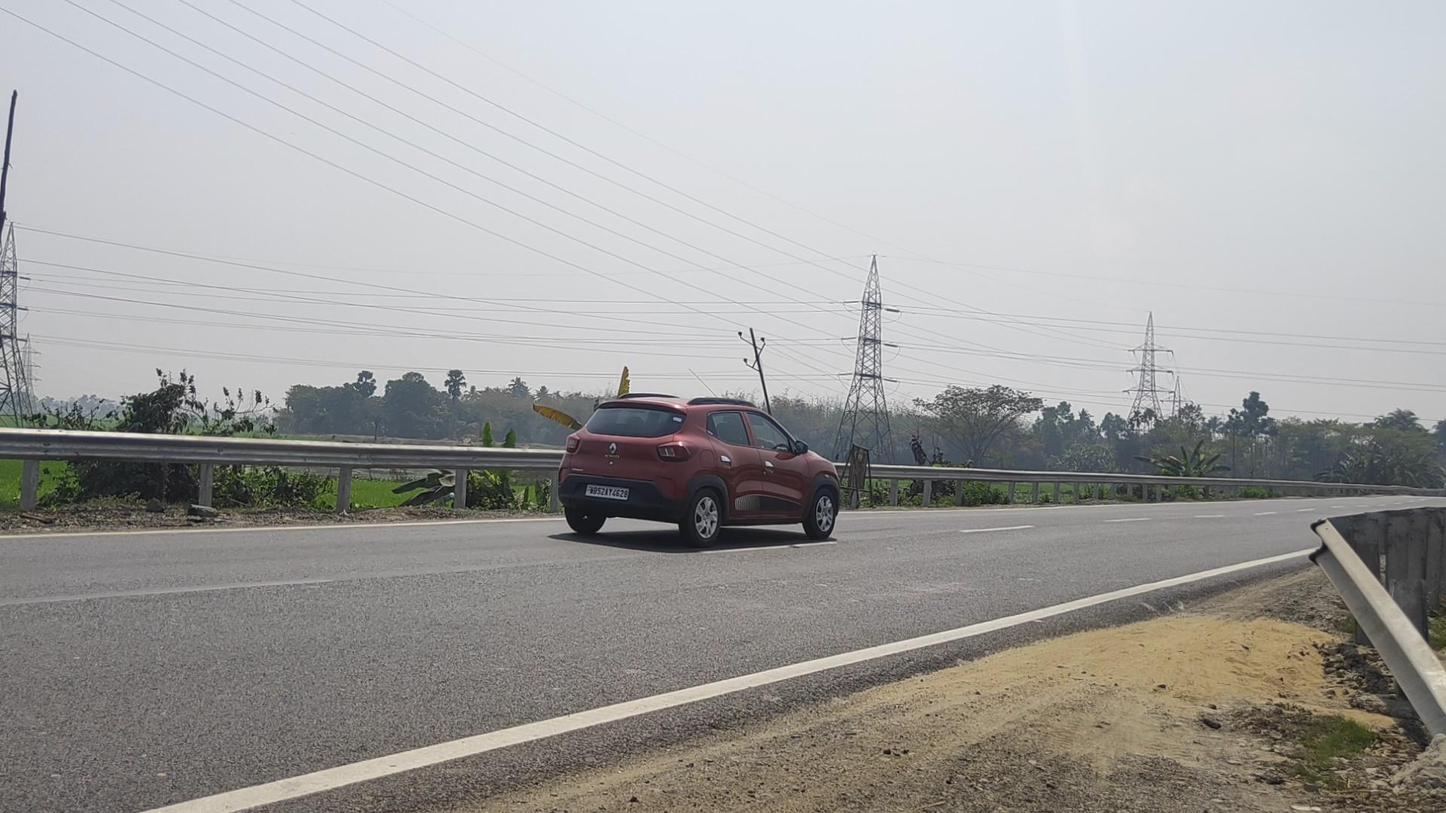car: (557, 393, 840, 547)
